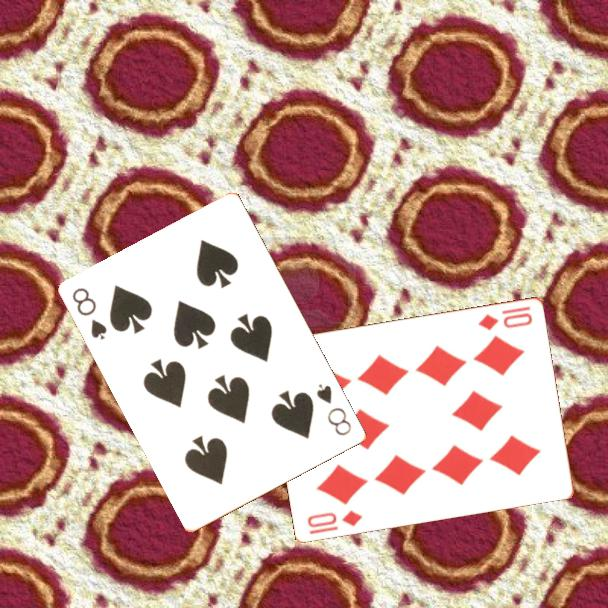d10: (304, 506, 366, 537), (475, 302, 535, 333)
s08: (313, 380, 355, 439), (69, 284, 110, 343)
